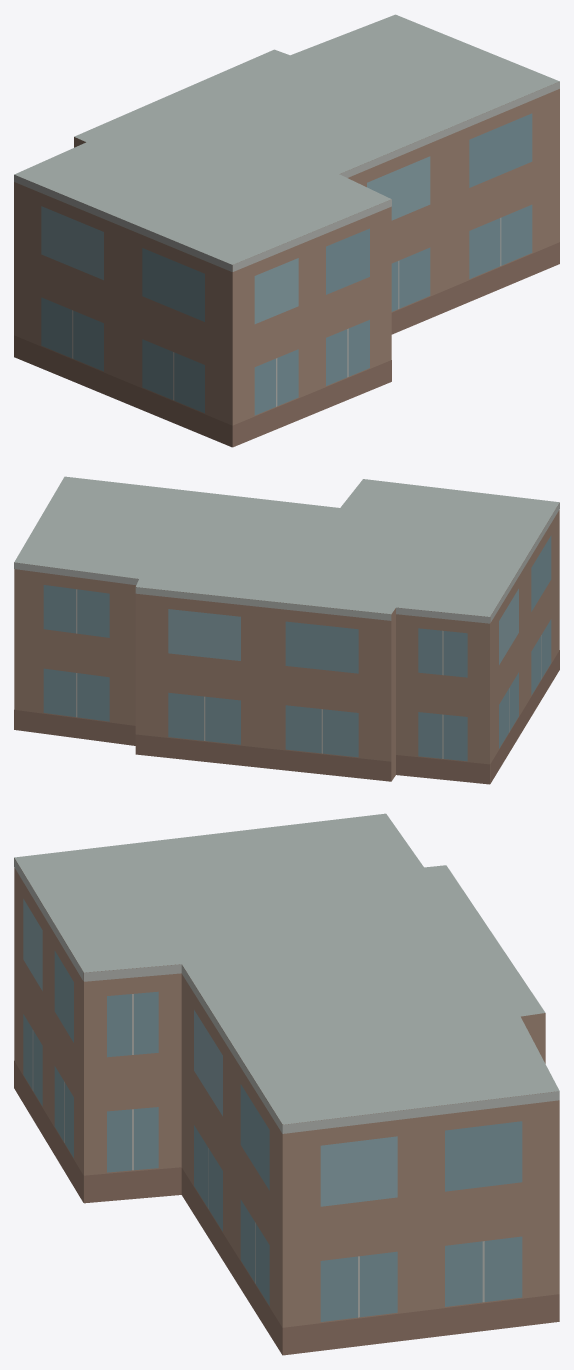
Rendered from survey-upis-32649297.glb.
The picture shows the model from 3 angles, top to bottom: view 1: azimuth 30°, elevation 25°; view 2: azimuth 150°, elevation 25°; view 3: azimuth 270°, elevation 25°; orthographic projection. The views are drawn at different scales.
Visible parts, largest first — view 1: survey-upis-32649297.tmp; view 2: survey-upis-32649297.tmp; view 3: survey-upis-32649297.tmp.
Boxes of the visible parts, left/top/right/bottom form: survey-upis-32649297.tmp: left=14, top=14, right=559, bottom=447; survey-upis-32649297.tmp: left=14, top=476, right=559, bottom=784; survey-upis-32649297.tmp: left=14, top=813, right=559, bottom=1355.
Size of the model in its own units: 17.67 by 6.1 by 13.09.
